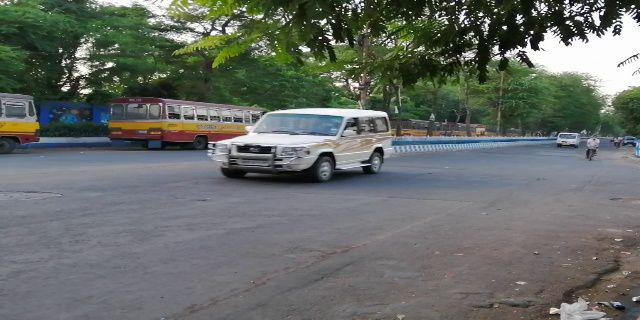Bus: (104, 92, 259, 153), (1, 93, 46, 153)
Car: (206, 103, 392, 187)
